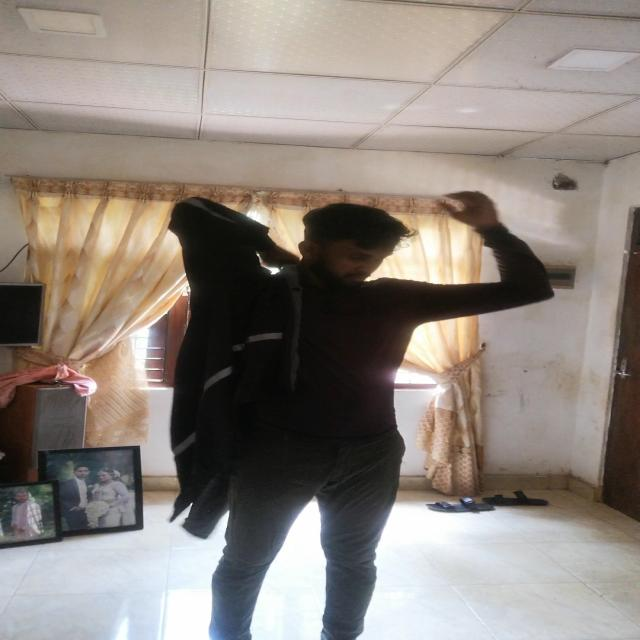Jacket_Wearer: (176, 197, 556, 514)
Person: (172, 193, 554, 640)
